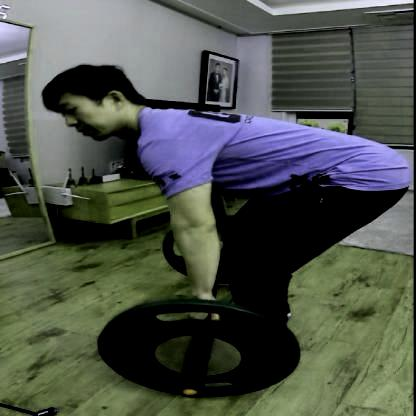Barbell: (176, 381, 206, 399)
